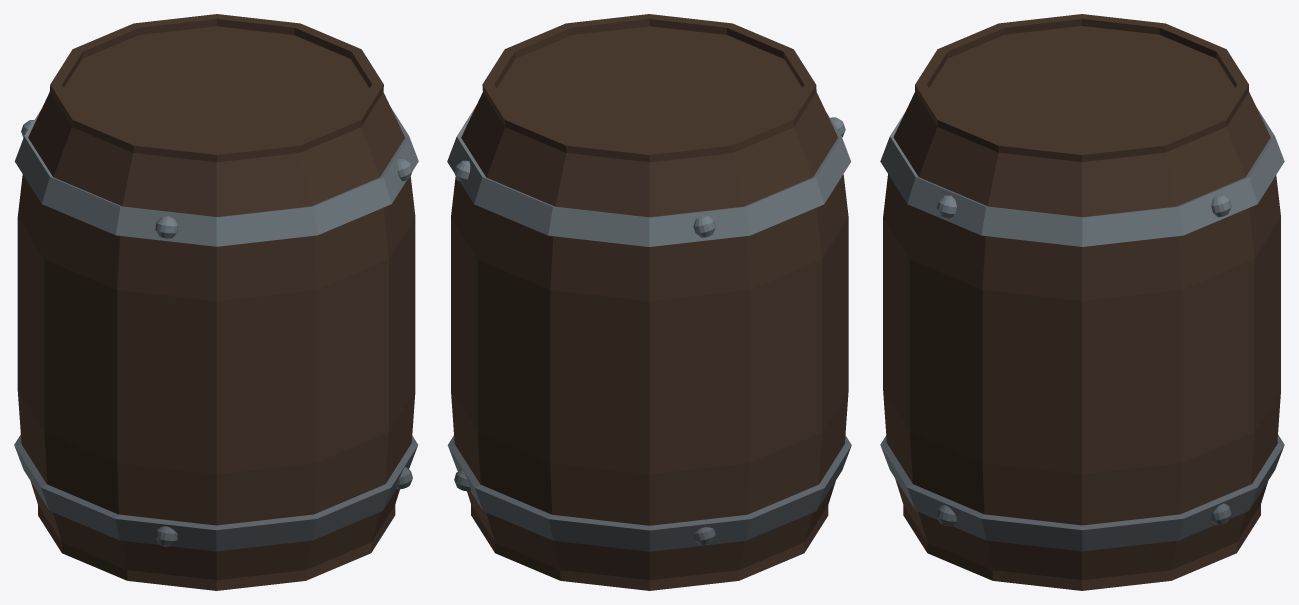
File: Barrel_01.gltf
3 renders of one model, left to right at view 1: azimuth 30°, elevation 25°; view 2: azimuth 150°, elevation 25°; view 3: azimuth 270°, elevation 25°, orthographic.
Parts seen in each view (by area): view 1: barrel; view 2: barrel; view 3: barrel.
Boxes of the visible parts, box(x1,y1,x2,y2) form: barrel: box(14, 14, 418, 590); barrel: box(447, 14, 851, 590); barrel: box(880, 14, 1284, 590).
Size of the model in its own units: 0.3566 by 0.4187 by 0.356.
Materials: 1 (1 with a texture image).
